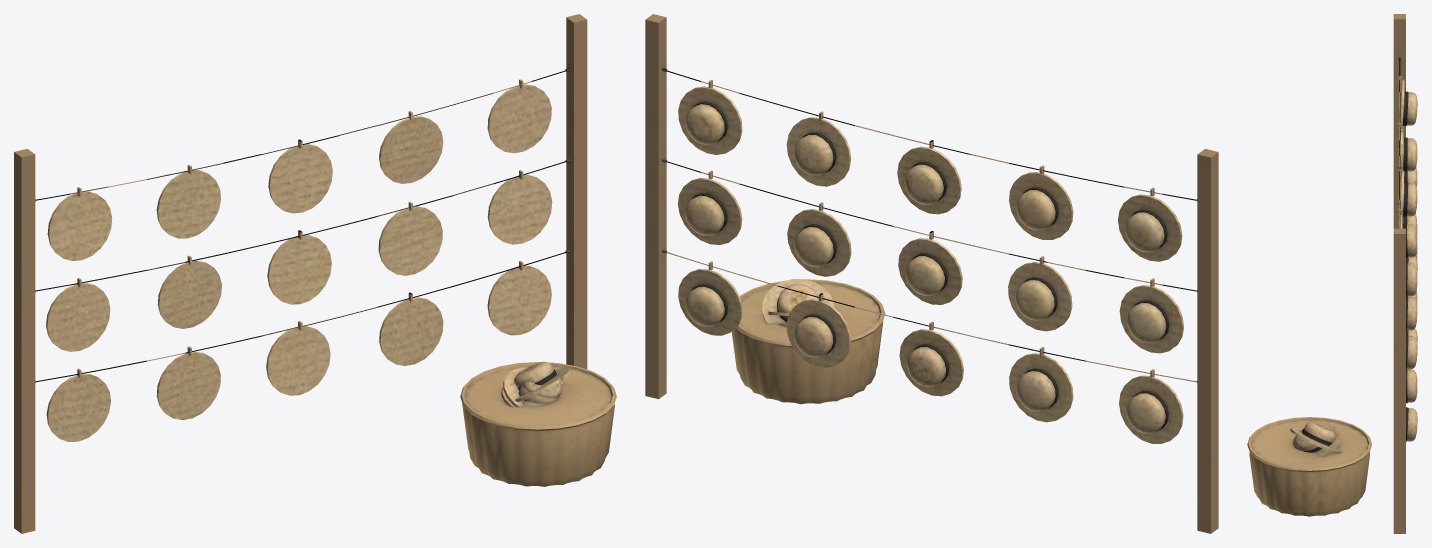
File: hat_rack.glb
3 renders of one model, left to right at view 1: azimuth 30°, elevation 25°; view 2: azimuth 150°, elevation 25°; view 3: azimuth 270°, elevation 25°, orthographic. The views are drawn at different scales.
Visible parts, largest first — view 1: hat_rack; view 2: hat_rack; view 3: hat_rack.
Part boxes in pixels (left/top/right/bottom): hat_rack: left=14, top=14, right=616, bottom=533; hat_rack: left=645, top=14, right=1218, bottom=533; hat_rack: left=1247, top=14, right=1417, bottom=533.
Bounding box in the file's own units: 3.58 × 2.28 × 1.17.
1 material, 1 textured.
